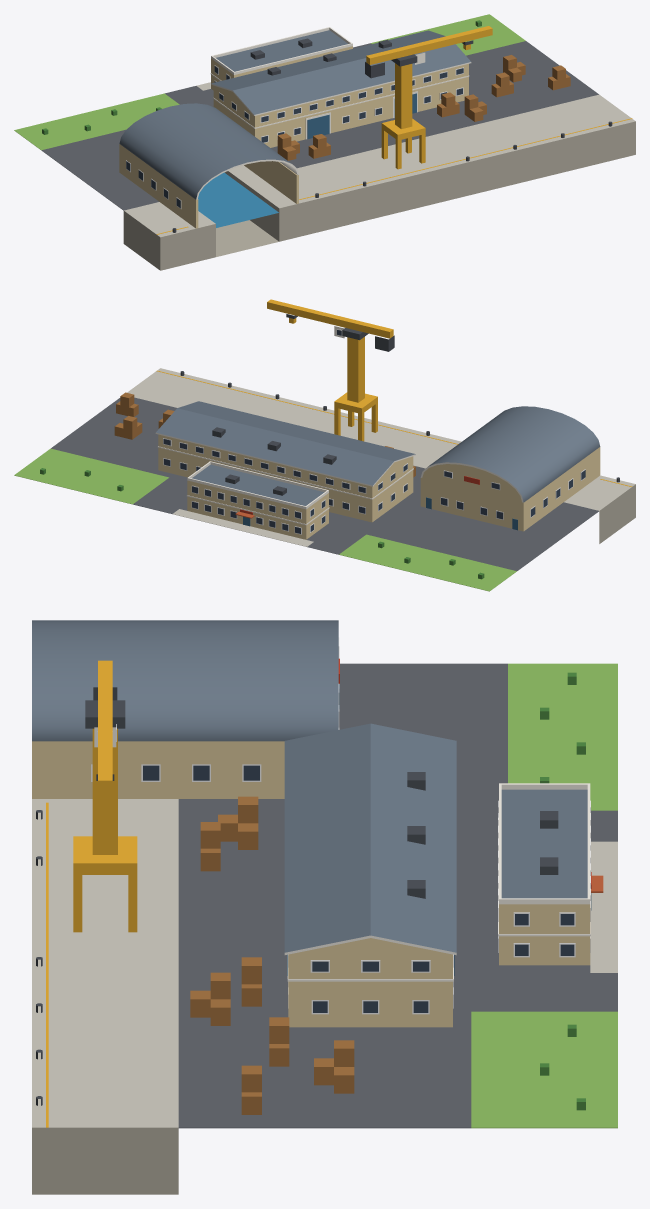
File: navalyard.glb
The picture shows the model from 3 angles, top to bottom: view 1: azimuth 30°, elevation 25°; view 2: azimuth 150°, elevation 25°; view 3: azimuth 270°, elevation 25°; orthographic projection. The views are drawn at different scales.
Visible parts, largest first — view 1: roof (×3), quay, quay_deck, asphalt, wall (×5), lawn, crate_stack (×7), water, dock_floor, jib, tower, parapet (×2) (+5 smaller); view 2: roof (×3), asphalt, wall (×6), quay_deck, lawn, gable, jib, quay, tower, paving, crate_stack (×2), parapet (×2) (+4 smaller); view 3: roof (×3), asphalt, quay_deck, lawn, wall (×5), quay, crate_stack (×7), paving, tower, portal, jib, gable (+1 smaller).
Part boxes in pixels (box(x1,y1,x2,y2)): roof (×3): box(119, 30, 470, 199); quay: box(123, 121, 635, 270); quay_deck: box(124, 94, 635, 237); asphalt: box(41, 41, 598, 210); wall (×5): box(119, 46, 468, 228); lawn: box(14, 14, 525, 150); crate_stack (×7): box(277, 55, 570, 160); water: box(198, 172, 278, 227); dock_floor: box(216, 220, 278, 256); jib: box(366, 26, 492, 64); tower: box(395, 63, 412, 129); parapet (×2): box(211, 27, 352, 74); roof (×3): box(156, 401, 600, 505); asphalt: box(51, 397, 598, 570); wall (×6): box(158, 434, 600, 539); quay_deck: box(127, 368, 635, 510); lawn: box(14, 448, 516, 591); gable: box(422, 464, 521, 502); jib: box(267, 299, 393, 338); quay: box(599, 484, 635, 543); tower: box(347, 337, 364, 402); paving: box(173, 509, 313, 546); crate_stack (×2): box(114, 392, 142, 439); parapet (×2): box(187, 461, 328, 509); roof (×3): box(32, 620, 587, 952); asphalt: box(178, 663, 617, 1128); quay_deck: box(32, 799, 178, 1127); lawn: box(471, 663, 617, 1128); wall (×5): box(32, 741, 590, 1027); quay: box(32, 1127, 178, 1194); crate_stack (×7): box(190, 796, 354, 1114); paving: box(590, 841, 617, 972); tower: box(92, 728, 117, 854); portal: box(73, 836, 137, 874); jib: box(98, 660, 112, 793); gable: box(297, 938, 443, 952).
Bounding box in the file's own units: 120 × 35 × 64.
